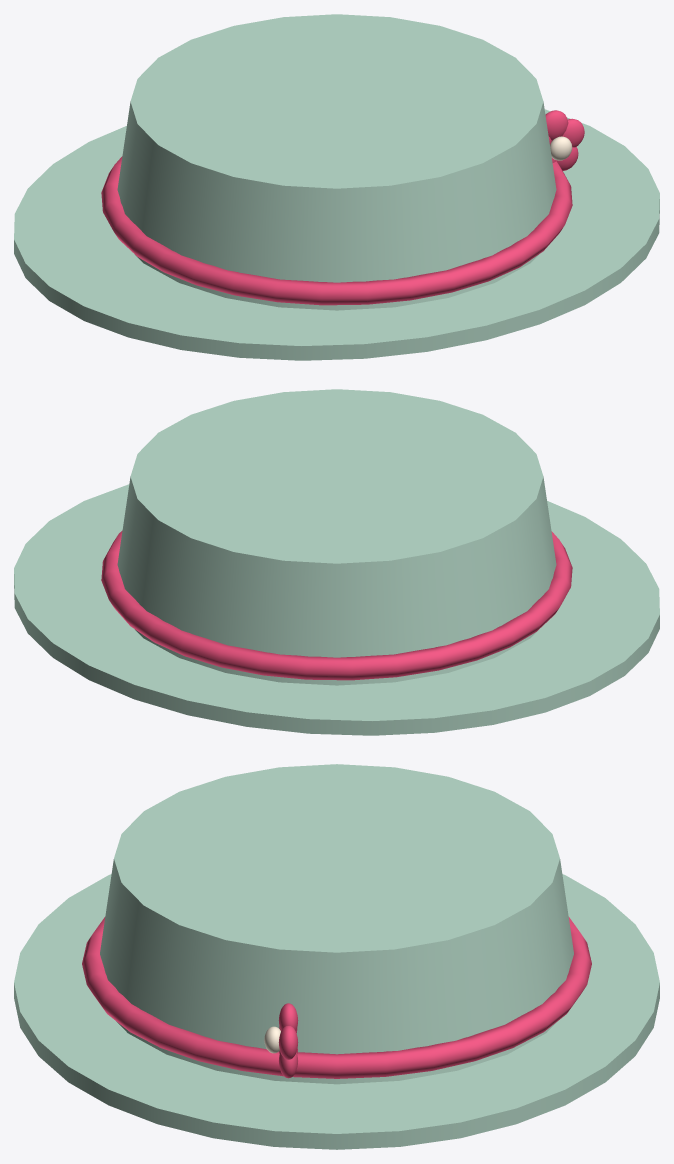
The model's file is hat_garden.glb.
3 views of the same model, one above another, from view 1: azimuth 30°, elevation 25°; view 2: azimuth 150°, elevation 25°; view 3: azimuth 270°, elevation 25° (orthographic). The views are drawn at different scales.
Parts seen in each view (by area): view 1: Sombrero jardín; view 2: Sombrero jardín; view 3: Sombrero jardín.
Boxes of the visible parts, <box> form: Sombrero jardín: <box>14,14,659,360</box>; Sombrero jardín: <box>14,389,659,735</box>; Sombrero jardín: <box>14,764,659,1149</box>.
Bounding box in the file's own units: 0.74 × 0.159 × 0.666.
